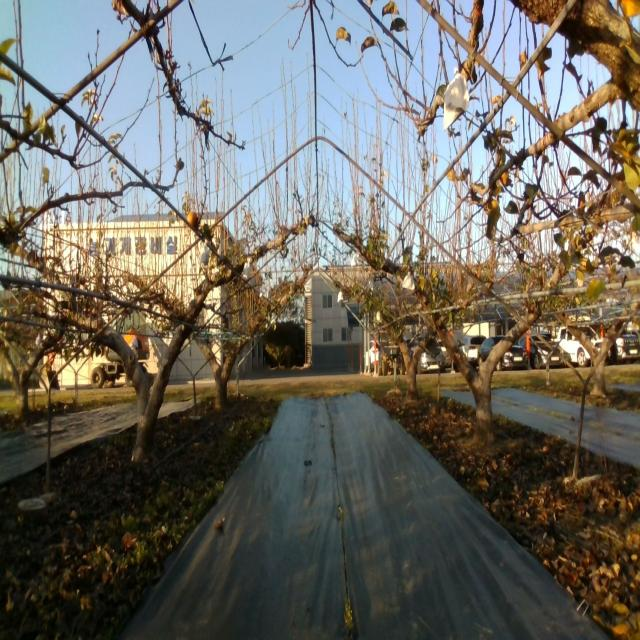pearbags: (442, 66, 469, 132), (402, 270, 415, 291), (200, 239, 210, 266), (242, 262, 252, 283)
